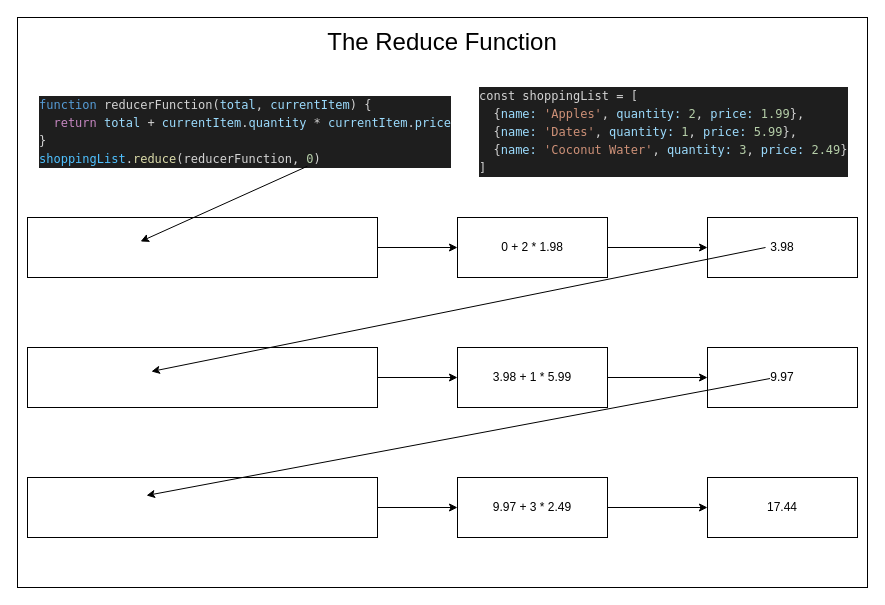
Some shapes in this 885 by 605 pixel diagram are drawn without their labels. Each missing label, with the box of its shape:
reducerFunction(0, {name: 'Apples', quantity: 2, price: 1.99}): (26, 216, 378, 278)
reducerFunction(3.98, {name: 'Dates', quantity: 1, price: 5.99}): (26, 346, 378, 408)
reducerFunction(9.97, {name: 'Coconut Water', quantity: 3, price: 2.49}): (26, 476, 378, 538)
